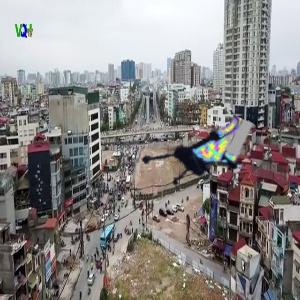drone: (132, 100, 245, 213)
